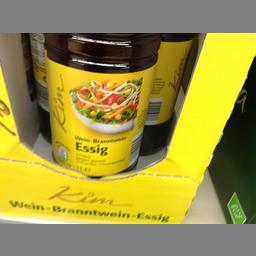vinegar: (41, 33, 158, 174)
